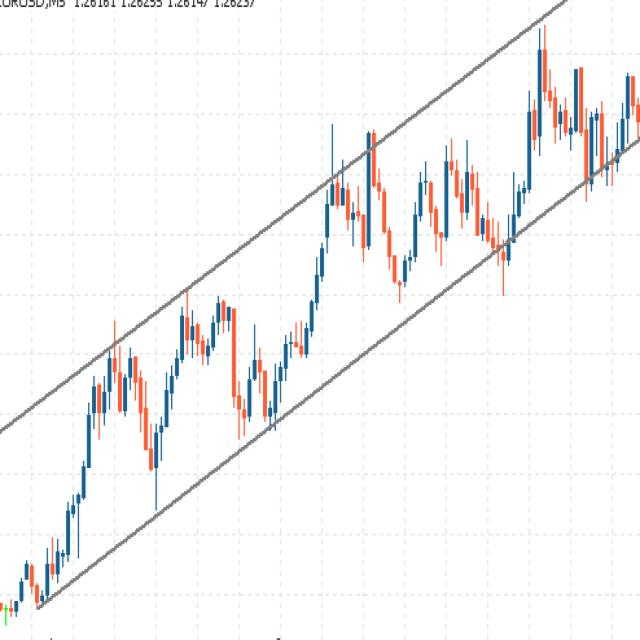Double-Bottom: (225, 344, 289, 429)
Double-Top: (171, 282, 244, 404)
Head-Shoulders: (82, 344, 150, 472)
